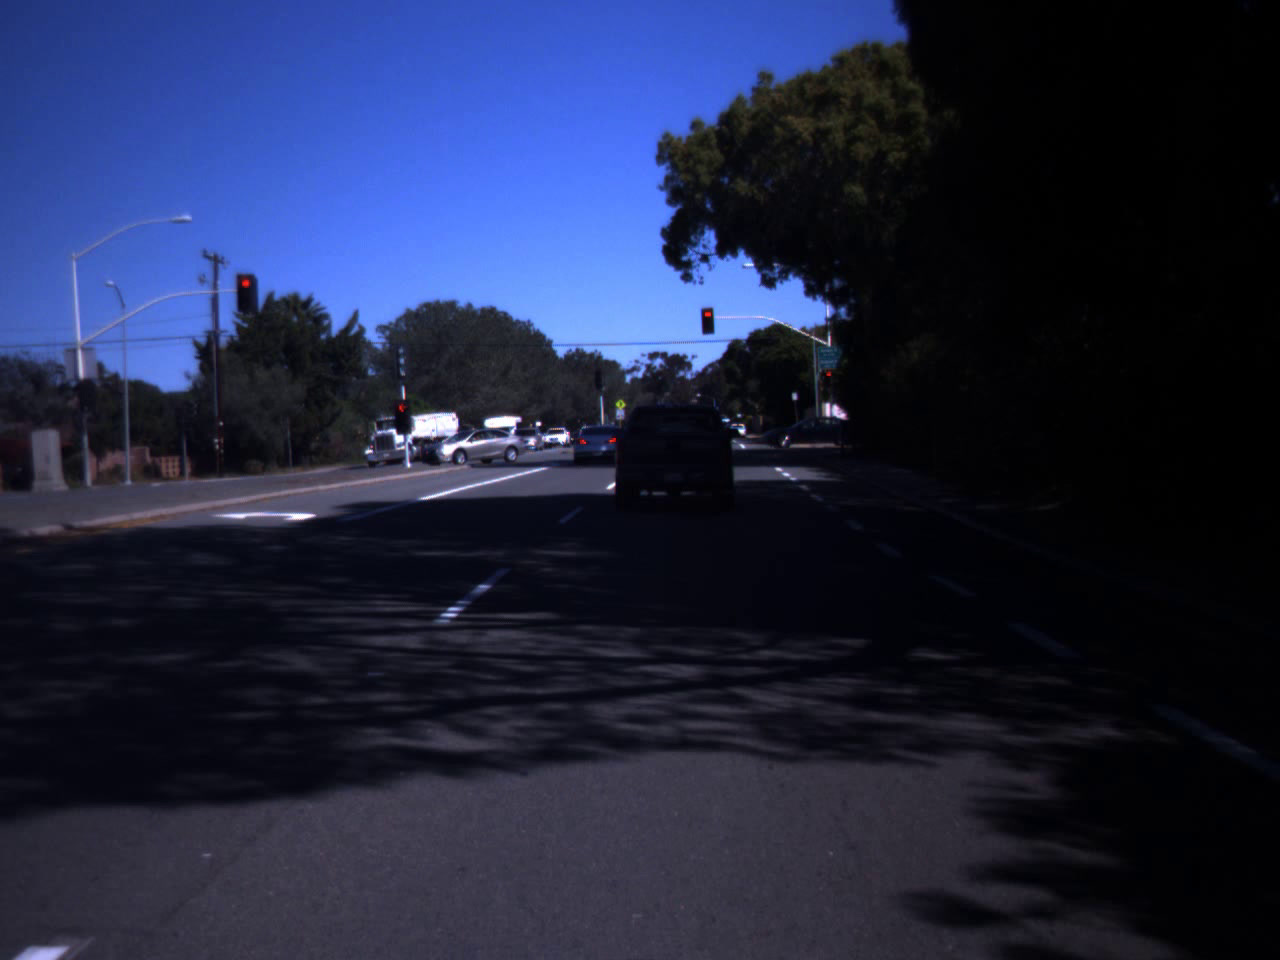stop: (698, 309, 719, 331), (238, 278, 253, 301), (395, 403, 407, 425), (822, 370, 834, 388)
